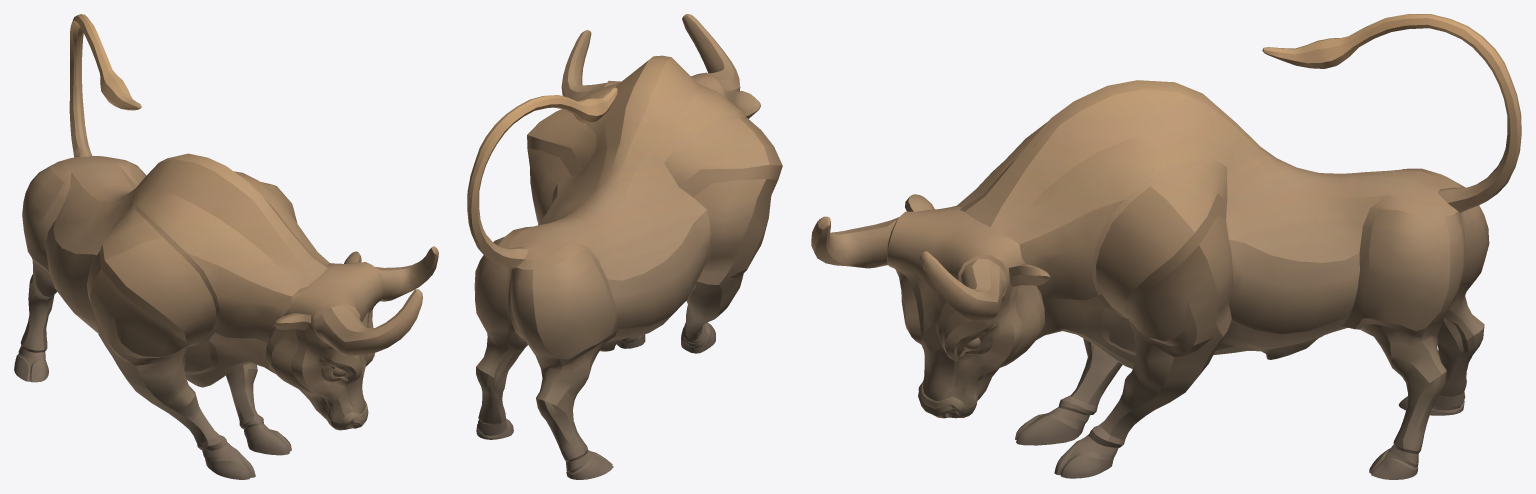
File: arch_stock_exchance_uptown_bull_01.glb
3 views of the same model, side by side, from view 1: azimuth 30°, elevation 25°; view 2: azimuth 150°, elevation 25°; view 3: azimuth 270°, elevation 25° (orthographic). The views are drawn at different scales.
Visible parts, largest first — view 1: arch_stock_exchance_uptown_bull_01.arch_stock_exchance_uptow; view 2: arch_stock_exchance_uptown_bull_01.arch_stock_exchance_uptow; view 3: arch_stock_exchance_uptown_bull_01.arch_stock_exchance_uptow.
Boxes of the visible parts, box(x1,y1,x2,y2) form: arch_stock_exchance_uptown_bull_01.arch_stock_exchance_uptow: box(14, 14, 438, 479); arch_stock_exchance_uptown_bull_01.arch_stock_exchance_uptow: box(467, 14, 782, 479); arch_stock_exchance_uptown_bull_01.arch_stock_exchance_uptow: box(811, 14, 1521, 479).
Bounding box in the file's own units: 9.22 × 11.45 × 17.3.
1 material, 1 textured.
